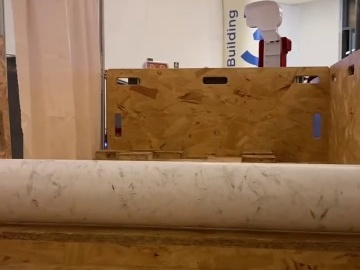curtain: (0, 0, 104, 162)
